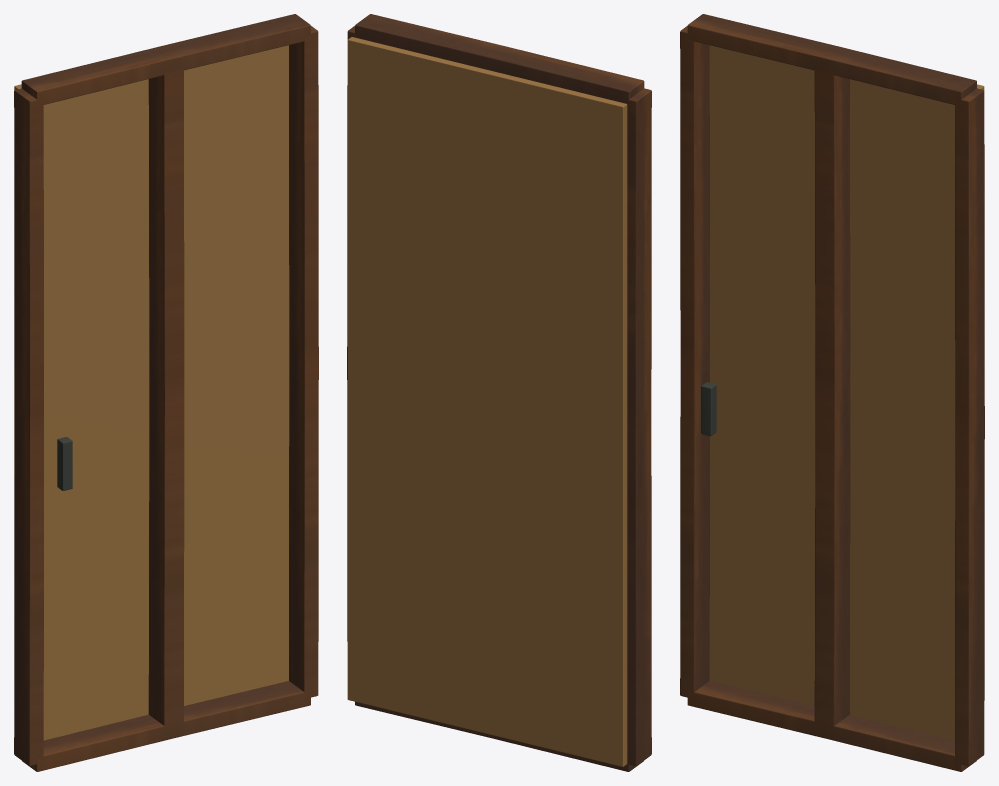
The model's file is CM_PairedWindowBay02_Casement_L.fbx.
3 renders of one model, left to right at view 1: azimuth 30°, elevation 25°; view 2: azimuth 150°, elevation 25°; view 3: azimuth 330°, elevation 25°, orthographic.
Visible parts, largest first — view 1: CM_PairedWindowBay02_Casement_L_Geometry; view 2: CM_PairedWindowBay02_Casement_L_Geometry; view 3: CM_PairedWindowBay02_Casement_L_Geometry.
Boxes of the visible parts, x1=… form: CM_PairedWindowBay02_Casement_L_Geometry: x1=14, y1=14, x2=318, y2=771; CM_PairedWindowBay02_Casement_L_Geometry: x1=347, y1=14, x2=651, y2=771; CM_PairedWindowBay02_Casement_L_Geometry: x1=680, y1=14, x2=984, y2=771.
Size of the model in its own units: 0.684 by 1.54 by 0.1165.
